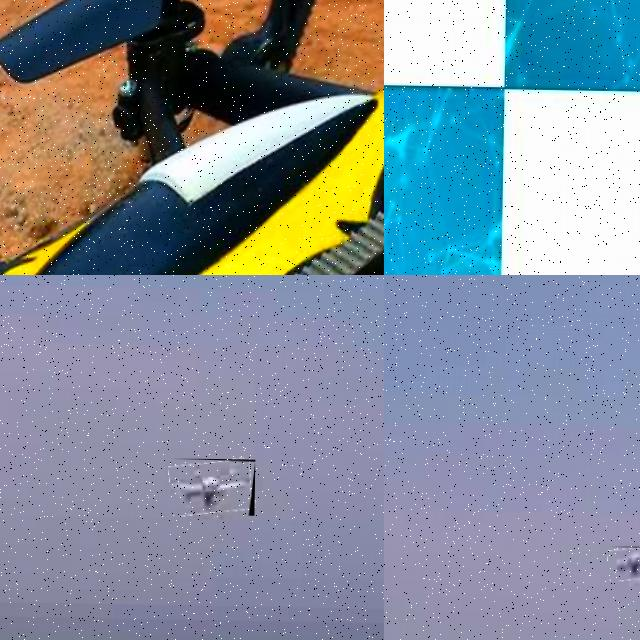0: (169, 458, 255, 515), (607, 545, 640, 579)
drone: (0, 0, 384, 275)
